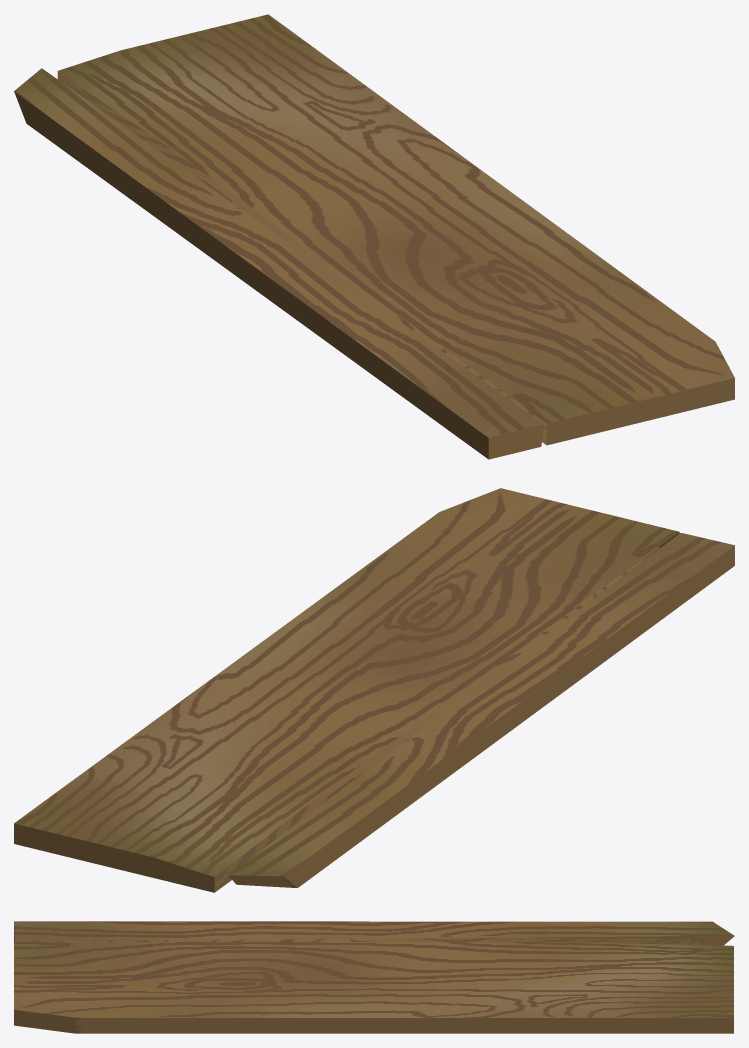
The model's file is small plank.fbx.
3 views of the same model, one above another, from view 1: azimuth 30°, elevation 25°; view 2: azimuth 150°, elevation 25°; view 3: azimuth 270°, elevation 25° (orthographic). The views are drawn at different scales.
Parts seen in each view (by area): view 1: Cube.001; view 2: Cube.001; view 3: Cube.001.
Part boxes in pixels (x1=…): Cube.001: x1=14, y1=14, x2=734, y2=459; Cube.001: x1=14, y1=488, x2=734, y2=892; Cube.001: x1=14, y1=921, x2=734, y2=1033.
Bounding box in the file's own units: 331 × 27.82 × 1038.
Materials: 1 (1 with a texture image).
